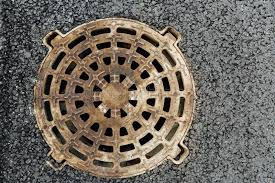Manhole-Closed: (23, 18, 208, 177)
